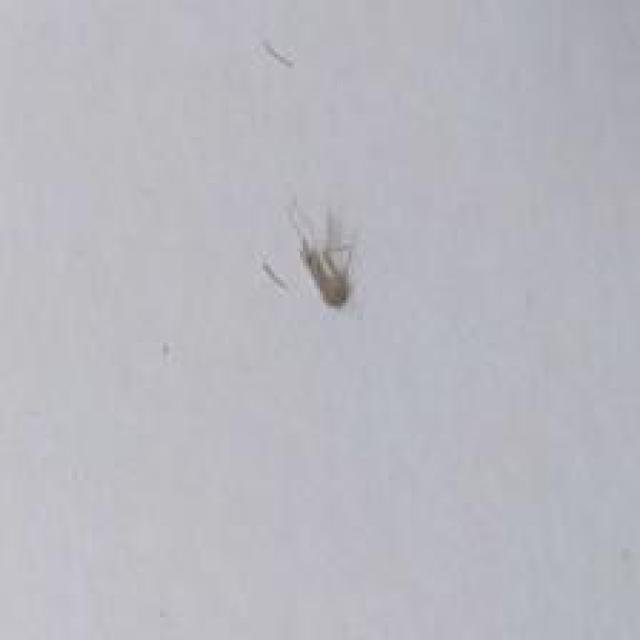Culex: (260, 195, 360, 312)
